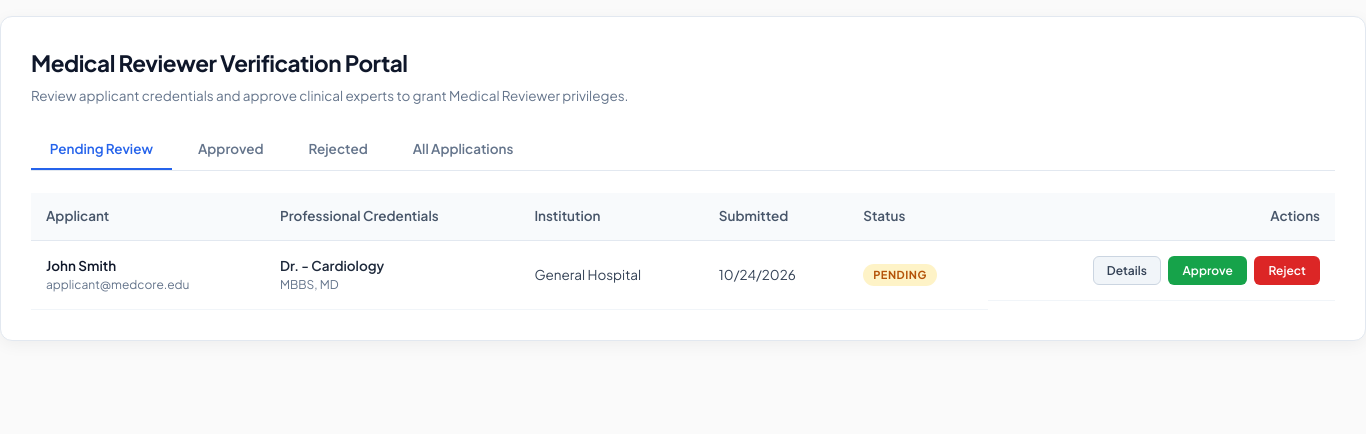
Test: AdminApplicationReview Component › renders pending applications and handles approve action
Expected: the text "John Smith" is shown, [46,257,116,274]
Expected: the text "applicant@medcore.edu" is shown, [46,277,190,292]
Click the button with test id "approve-btn-app-1".
click(1208, 270)  # box [1168,256,1247,285]
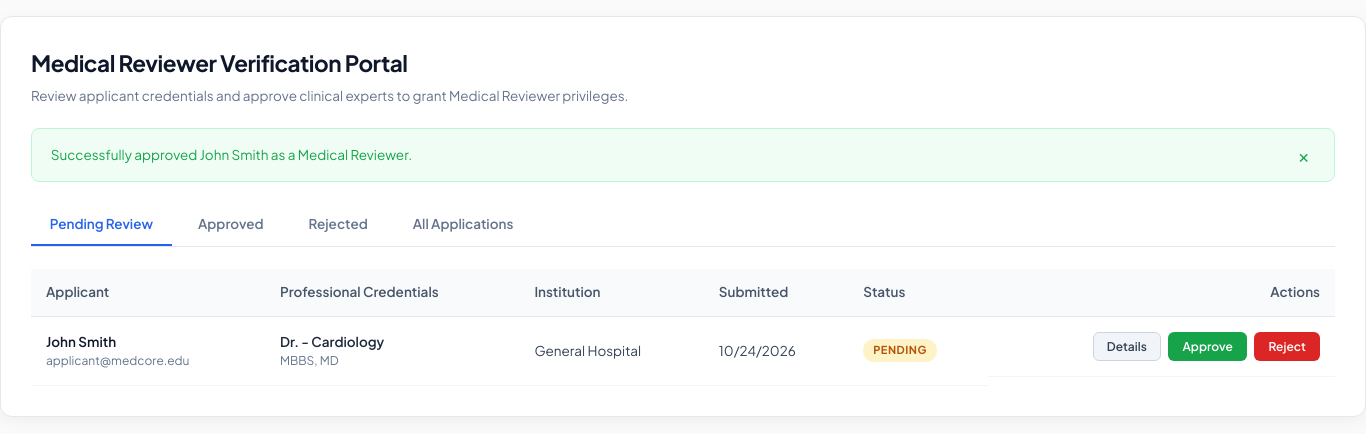
Now the element with test id "admin-review-success" is shown, box [31,128,1335,182]
